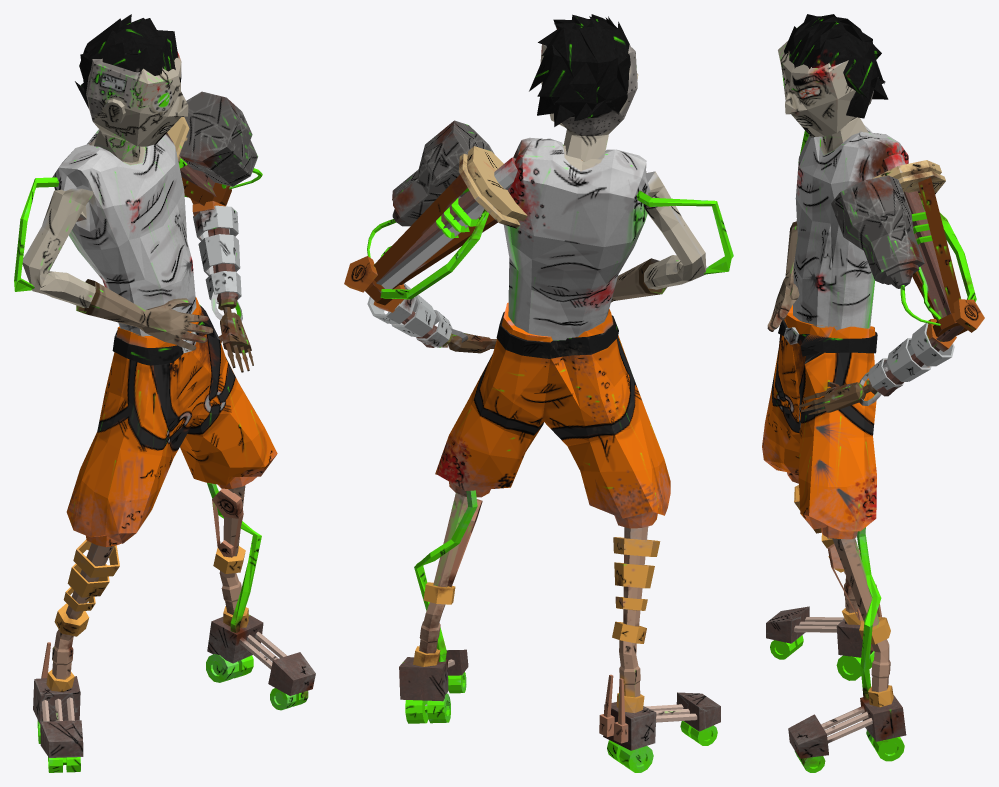
File: CyborgFINALAnimation_000001.obj
The picture shows the model from 3 angles, left to right: view 1: azimuth 30°, elevation 25°; view 2: azimuth 150°, elevation 25°; view 3: azimuth 270°, elevation 25°; orthographic projection. The views are drawn at different scales.
Parts seen in each view (by area): view 1: CyborgMesh_Cube.002; view 2: CyborgMesh_Cube.002; view 3: CyborgMesh_Cube.002.
Part boxes in pixels (x1,y1,x2,y2): CyborgMesh_Cube.002: (14, 14, 315, 772); CyborgMesh_Cube.002: (344, 14, 733, 772); CyborgMesh_Cube.002: (762, 14, 984, 772).
Bounding box in the file's own units: 4.24 × 9.59 × 2.83.
